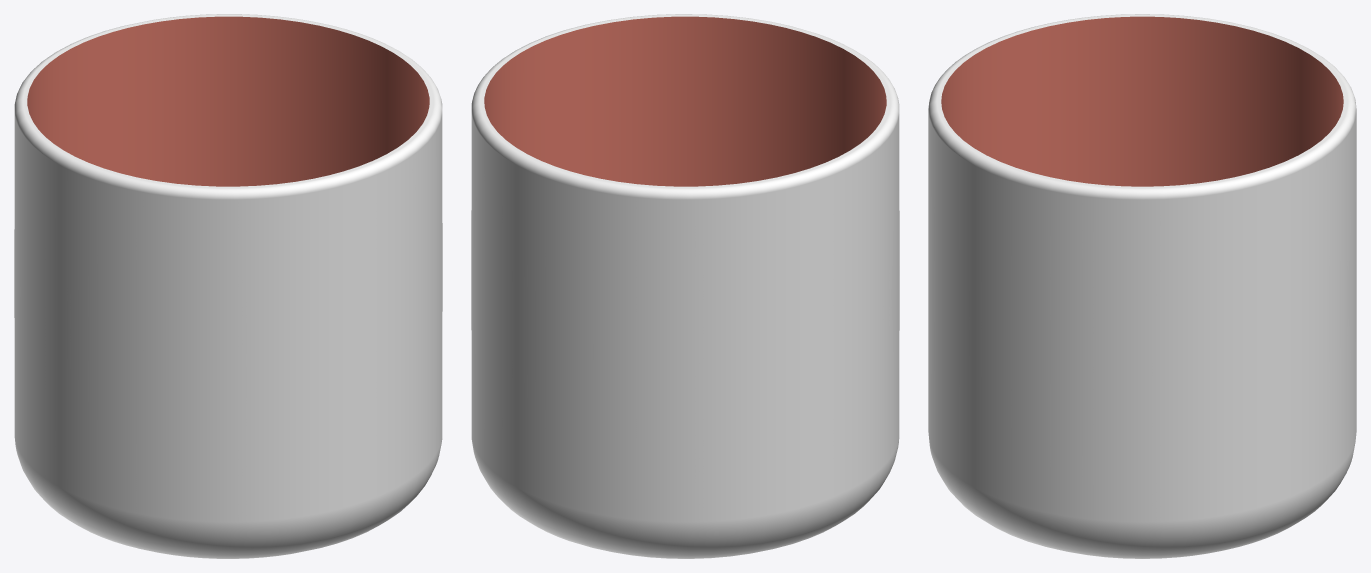
Rendered from cup.glb.
3 views of the same model, side by side, from view 1: azimuth 30°, elevation 25°; view 2: azimuth 150°, elevation 25°; view 3: azimuth 270°, elevation 25° (orthographic).
Parts seen in each view (by area): view 1: Body3; view 2: Body3; view 3: Body3.
Boxes of the visible parts, box(x1,y1,x2,y2) form: Body3: box(14, 14, 442, 558); Body3: box(471, 14, 899, 558); Body3: box(928, 14, 1356, 558).
Bounding box in the file's own units: 0.1 × 0.1 × 0.1.
